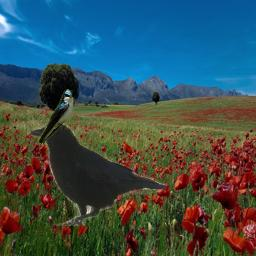Crow: (25, 119, 167, 226)
Swallow: (37, 89, 75, 147)
